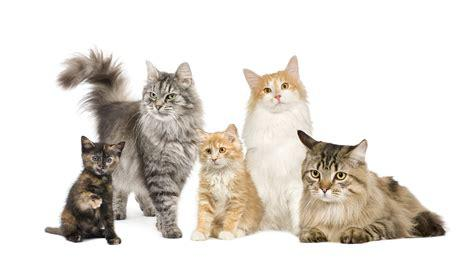cat: (57, 48, 203, 239), (295, 129, 447, 243), (243, 58, 312, 235), (45, 135, 125, 244), (192, 124, 265, 239)
